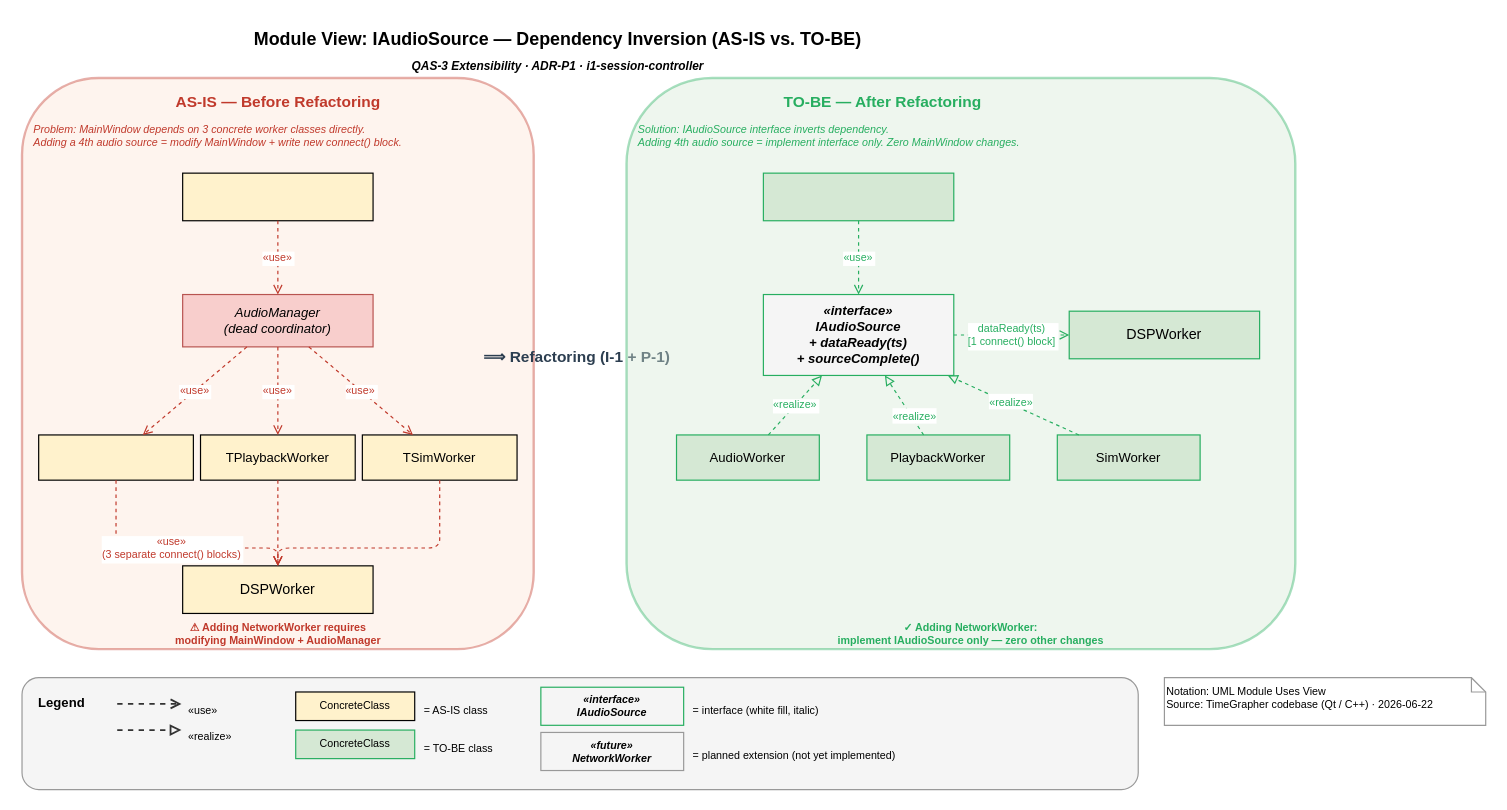
The diagram is 1507 pixels wide and 810 high, and some of its shapes have lost their labels. The shapes that lost their labels are listed below. From the top down, each one's box as (x1, y1, x2, y2) in pixels, then its label:
(181, 172, 373, 221): MainWindow
(762, 172, 954, 221): SessionController
(37, 434, 193, 480): TAudioWorker
